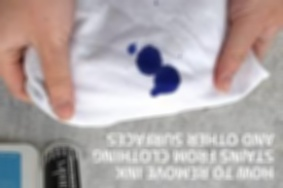ink: (151, 65, 180, 98), (136, 48, 162, 74), (129, 43, 135, 55)
